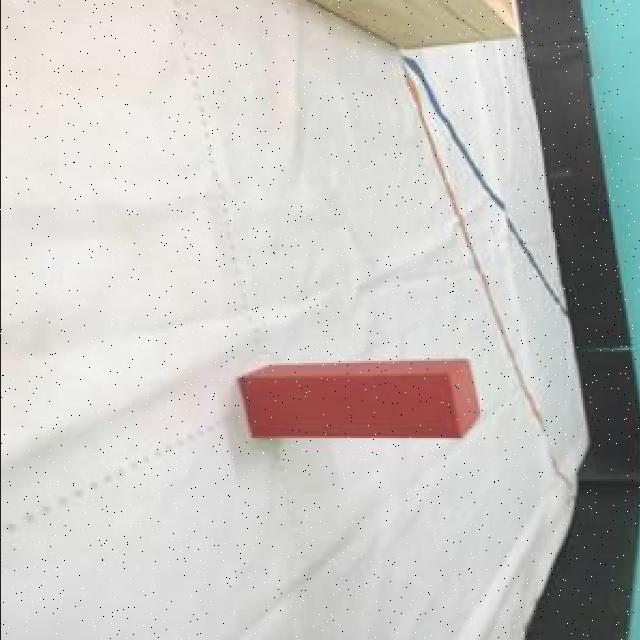redbox: (238, 358, 484, 440)
